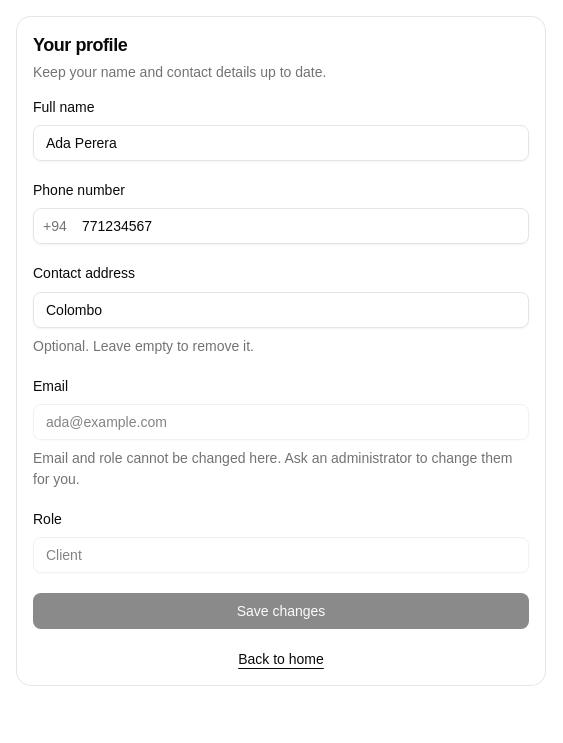
ProfilePage › displays the stored local number after the fixed prefix and saves edited digits as a complete number
Expected: the text "+94" is shown, x1=43 y1=218 x2=67 y2=234
Expected: the field labelled "Email" is disabled, x1=33 y1=404 x2=529 y2=440
Step 1. Replace the text in the field labelled "Phone number" with "712345678" → (281, 226), box x1=33 y1=208 x2=529 y2=244
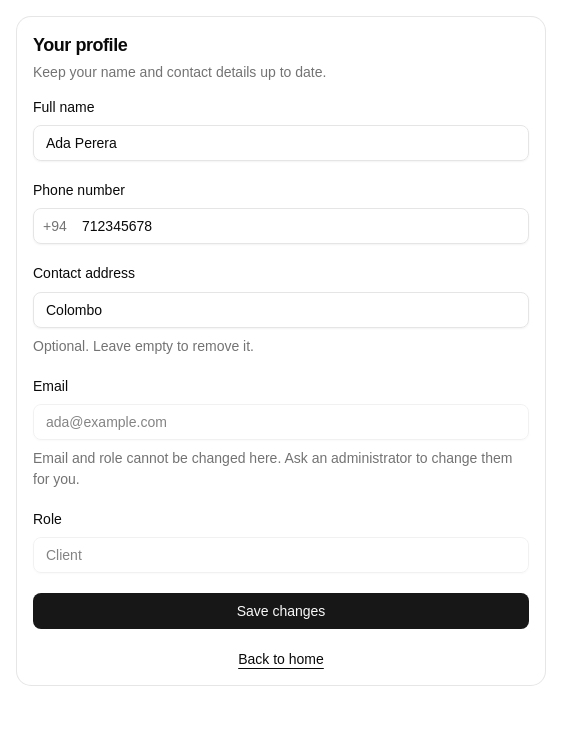
Step 2. Click the button "Save changes" → (281, 611), box x1=33 y1=593 x2=529 y2=629
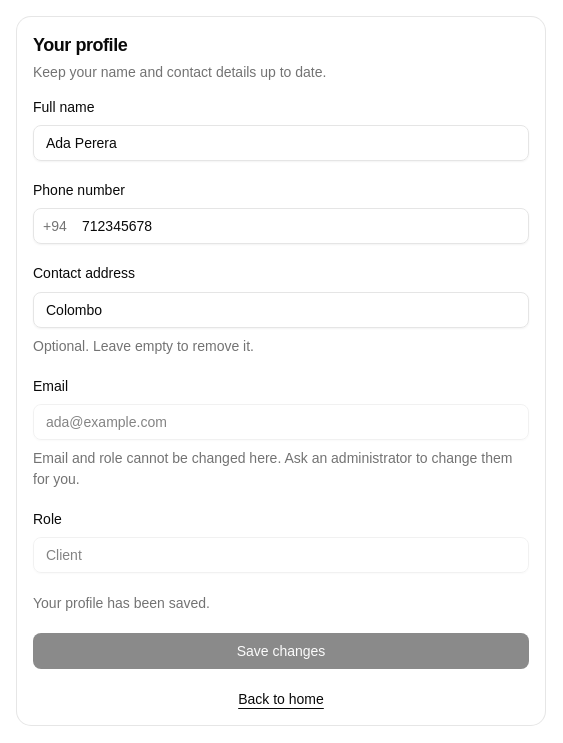
Now the message reads "Your profile has been saved.", box x1=33 y1=595 x2=210 y2=611
Now the button "Save changes" is disabled, box x1=33 y1=633 x2=529 y2=669
